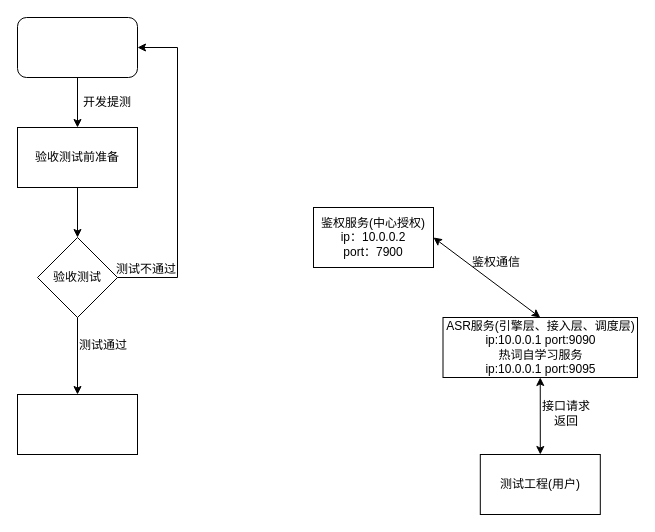
The diagram is 655 pixels wide and 532 high, and some of its shapes have lost their labels. The shapes that lost their labels are listed below. From the top down, each one's centre as x and y in pixels, then its label:
At pixel 77 47: "开发编码".
At pixel 77 424: "完成验收".
